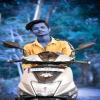motorcycles: (22, 50, 82, 100)
